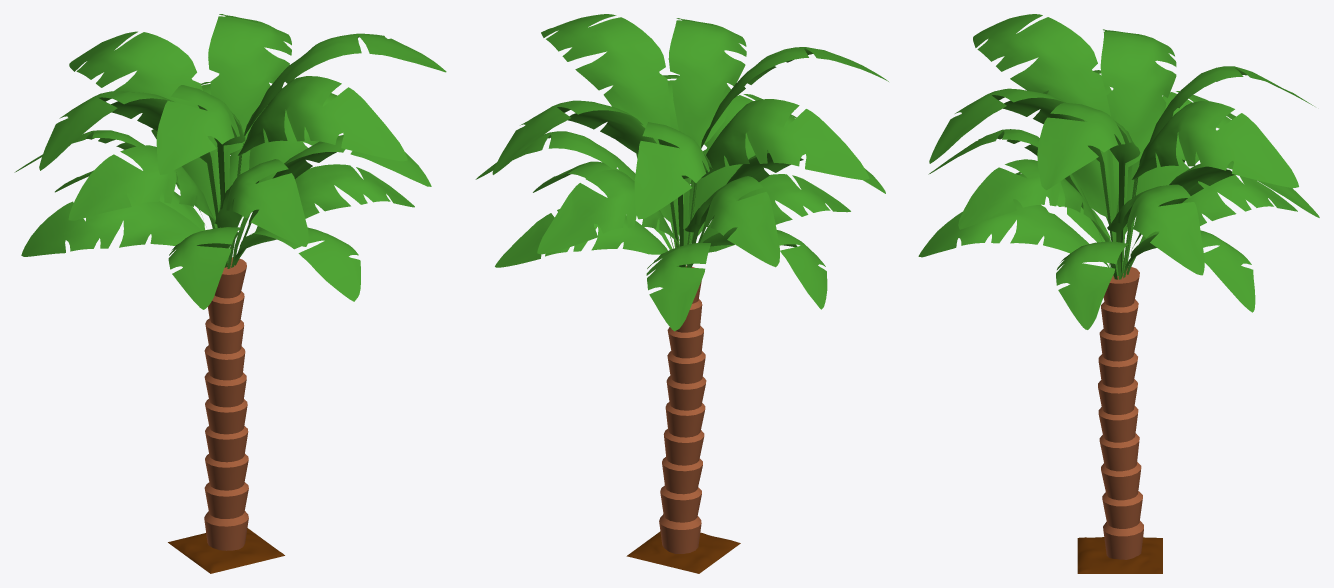
The model's file is oil-palm-p4-leaf.glb.
The picture shows the model from 3 angles, left to right: view 1: azimuth 30°, elevation 25°; view 2: azimuth 150°, elevation 25°; view 3: azimuth 270°, elevation 25°; orthographic projection. The views are drawn at different scales.
Visible parts, largest first — view 1: 4_nft_summer; view 2: 4_nft_summer; view 3: 4_nft_summer.
Part boxes in pixels (x1=…): 4_nft_summer: x1=14, y1=14, x2=446, y2=573; 4_nft_summer: x1=475, y1=14, x2=888, y2=573; 4_nft_summer: x1=918, y1=14, x2=1319, y2=573.
Bounding box in the file's own units: 6.94 × 8.96 × 6.59.
